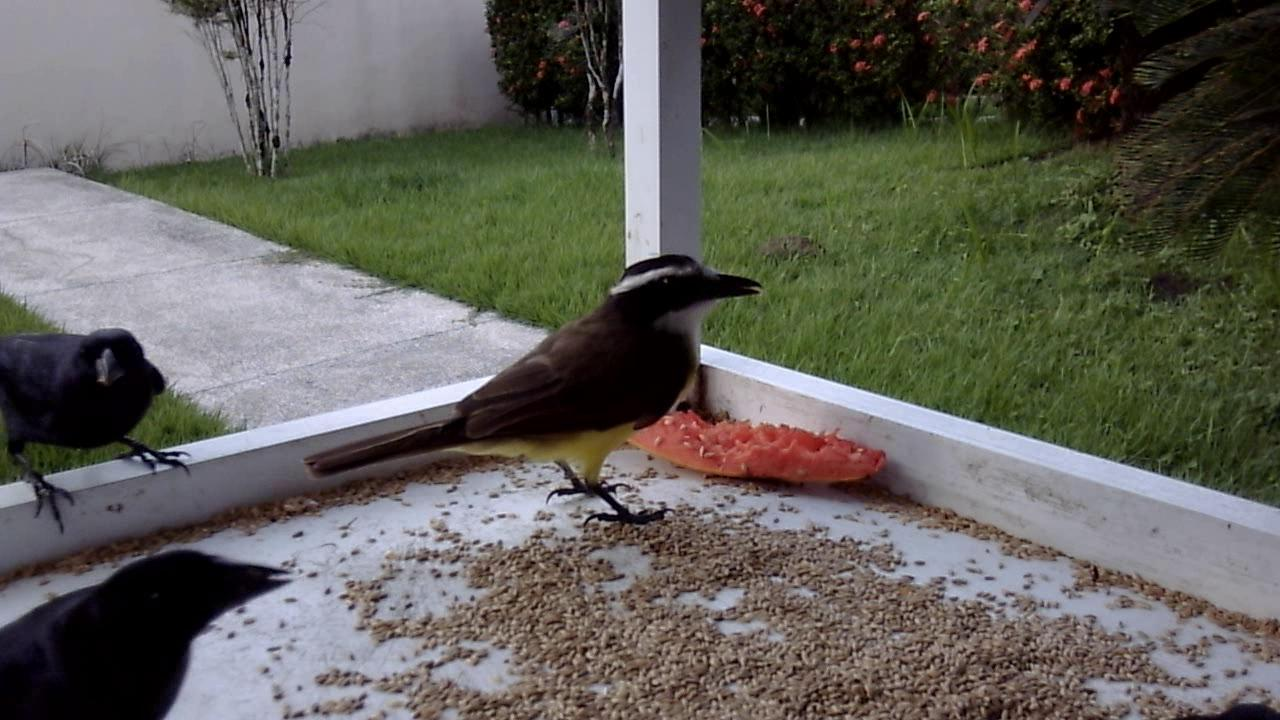bem_te_vi: (294, 252, 768, 531)
chupim: (1, 541, 308, 718), (1, 318, 204, 544)
